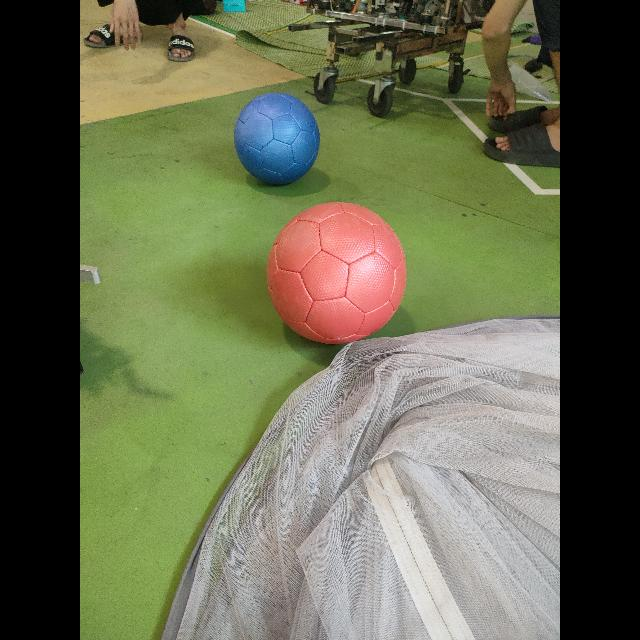B: (234, 93, 321, 188)
R: (266, 203, 408, 347)
